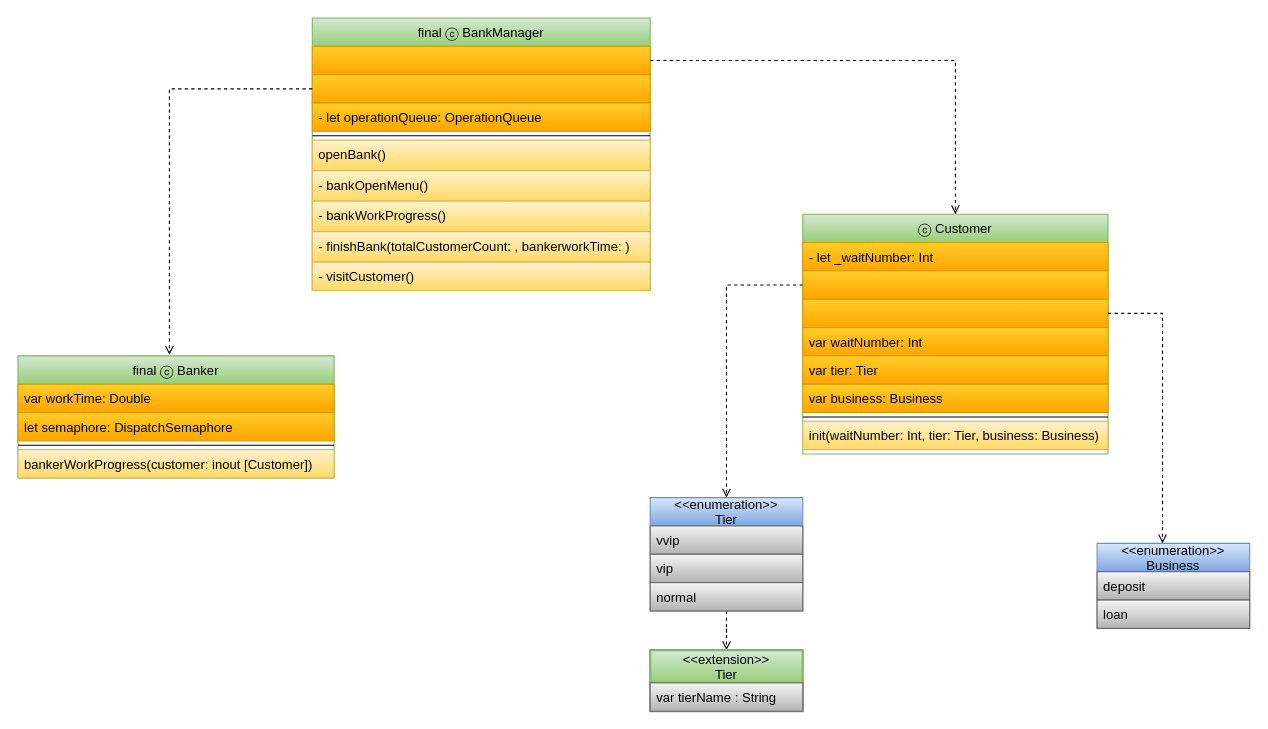
The diagram is 1268 pixels wide and 729 high, and some of its shapes have lost their labels. The centre of each missing label's shape, as x and y in pixels:
- let _business: Business: point 955,313
- let _tier: Tier: point 955,284
- var banker: Banker: point 480,88
- var customer: [Customer]: point 480,60
